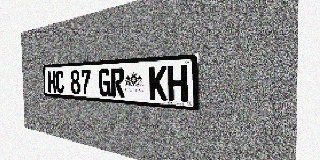7: (80, 69, 91, 95)
8: (70, 69, 80, 95)
C: (55, 70, 64, 93)
G: (98, 68, 111, 97)
H: (168, 65, 188, 102), (48, 70, 56, 93)
K: (149, 66, 167, 101)
R: (111, 68, 125, 98)
